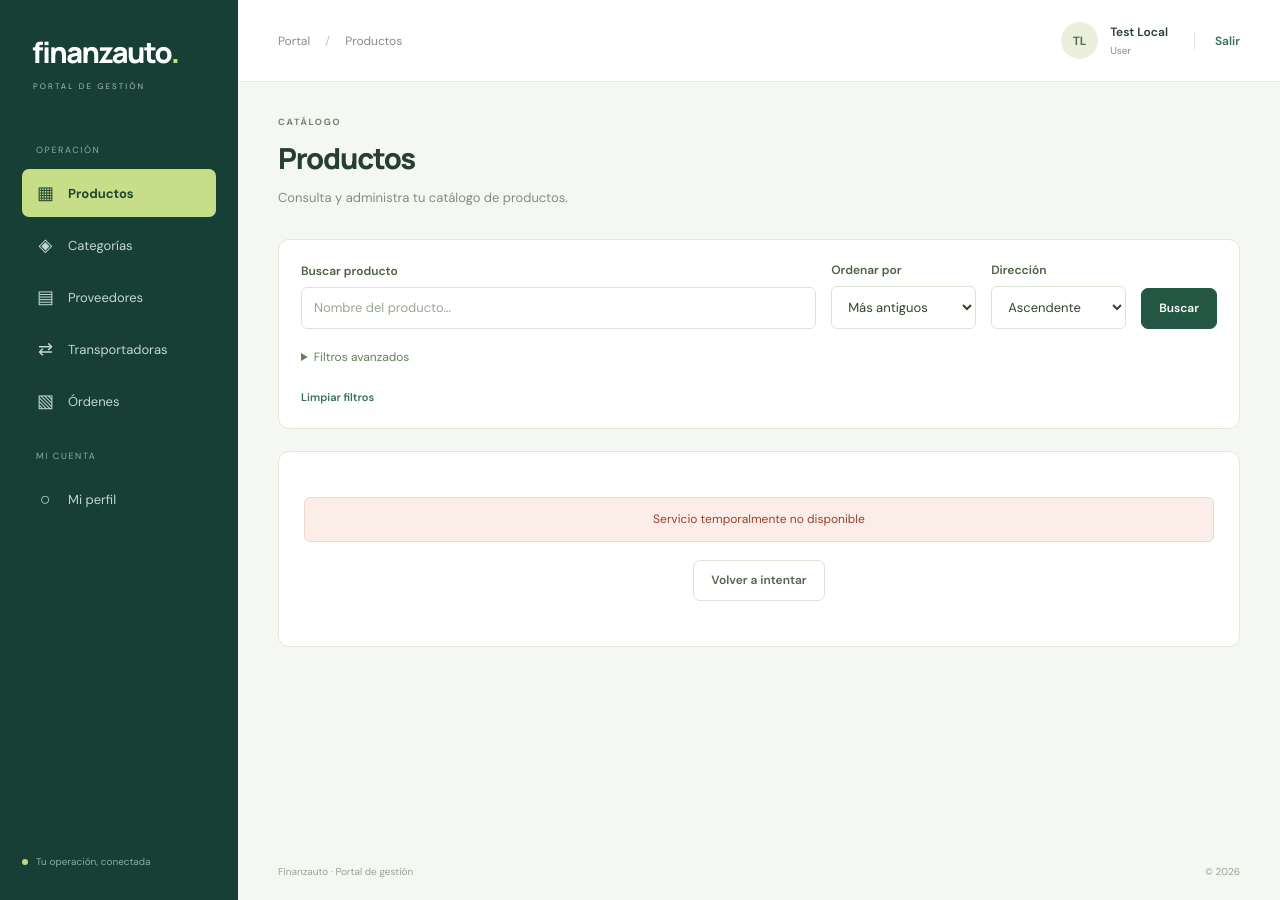
Catálogo conectado › muestra errores del servidor y permite reintentar la consulta
Check: the message "Servicio temporalmente no disponible" is shown, box [304,497,1214,542]
Click the button "Volver a intentar" at (759, 580), box [693,560,825,601]
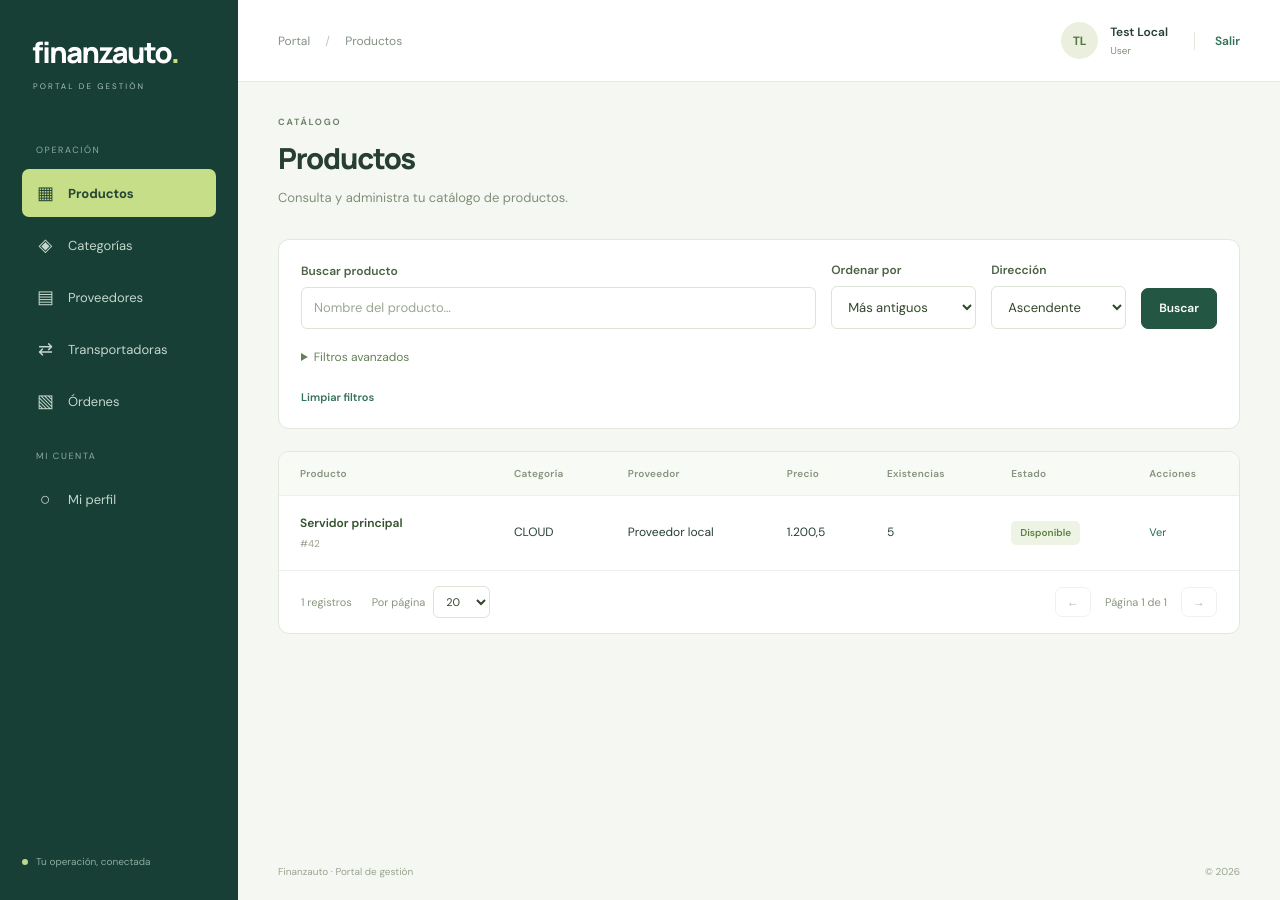
Check: the link "Servidor principal" is shown, box [300,515,402,531]
